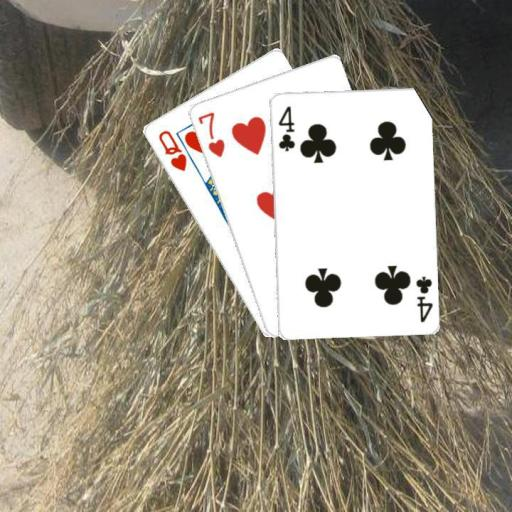4C: (412, 273, 435, 324), (274, 103, 296, 153)
7H: (194, 108, 226, 159)
QH: (155, 127, 189, 173)
